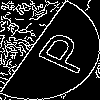P: (25, 25, 97, 77)
